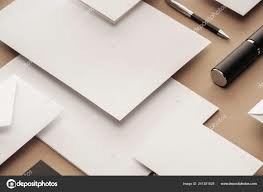pen: (167, 1, 231, 39)
